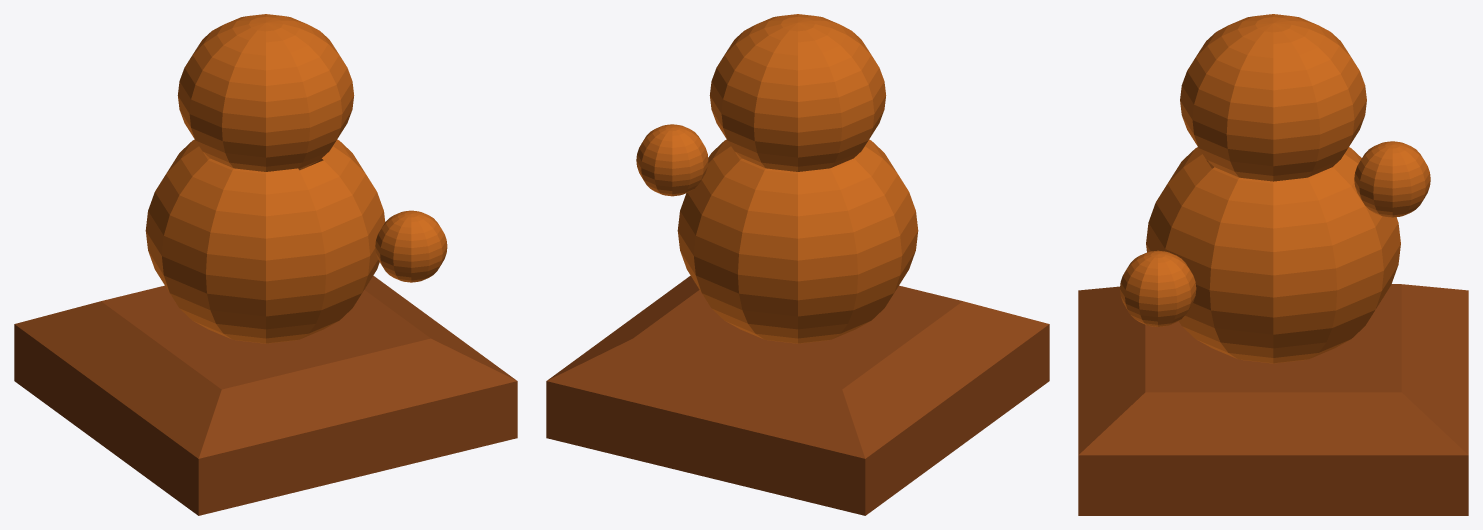
File: statue.fbx
3 renders of one model, left to right at view 1: azimuth 30°, elevation 25°; view 2: azimuth 150°, elevation 25°; view 3: azimuth 270°, elevation 25°, orthographic. The views are drawn at different scales.
Visible parts, largest first — view 1: statue; view 2: statue; view 3: statue.
Boxes of the visible parts, box(x1,y1,x2,y2) form: statue: box(14, 14, 517, 515); statue: box(546, 14, 1049, 515); statue: box(1078, 14, 1468, 515).
Size of the model in its own units: 0.1746 by 0.2023 by 0.1746.
